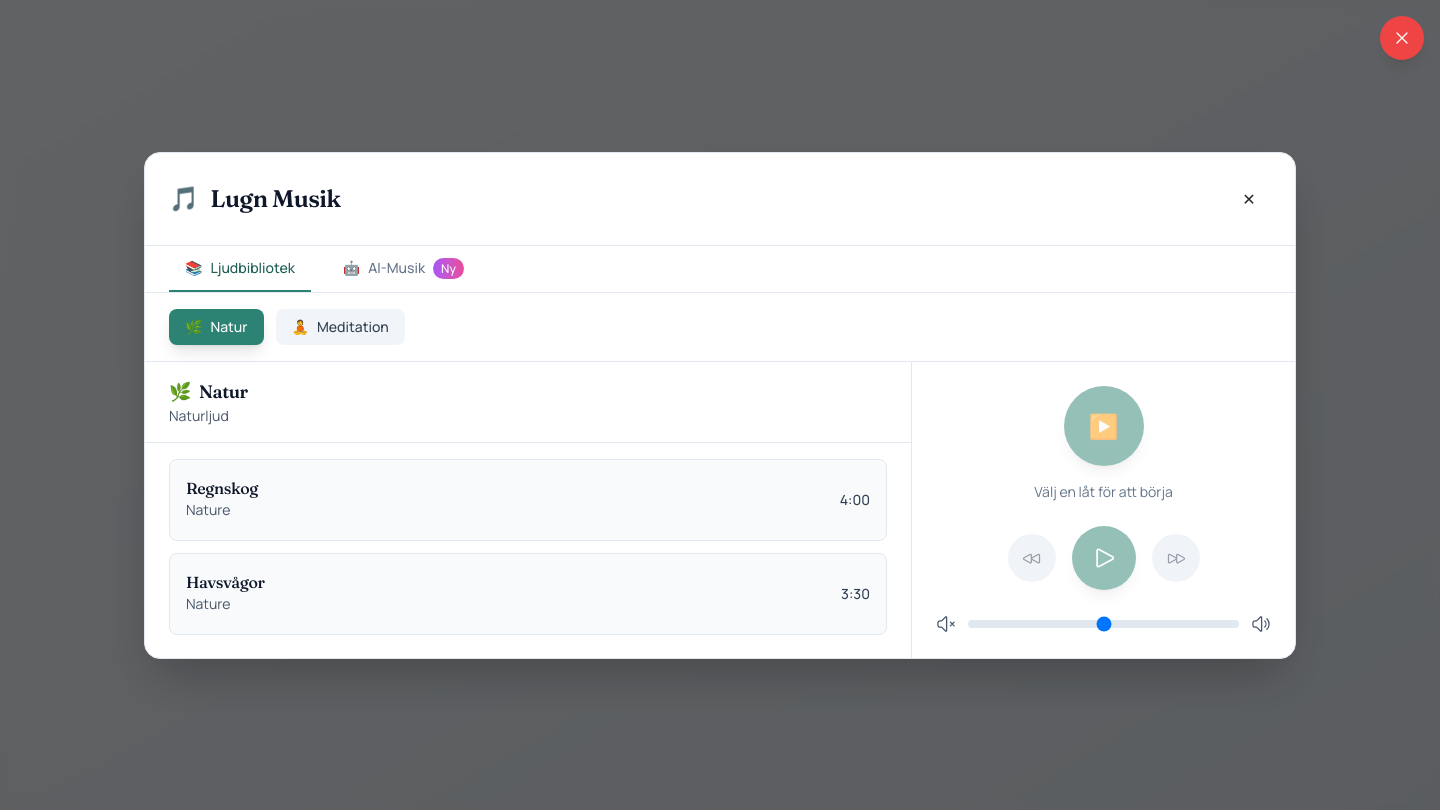
Test: BUG-06: play says no instead of doing nothing › enables them once a track is chosen
Expected: the heading "Regnskog" is shown, x1=186 y1=478 x2=258 y2=498
Click the button "Regnskog Nature 4:00": [222, 488] box x1=169 y1=458 x2=887 y2=540
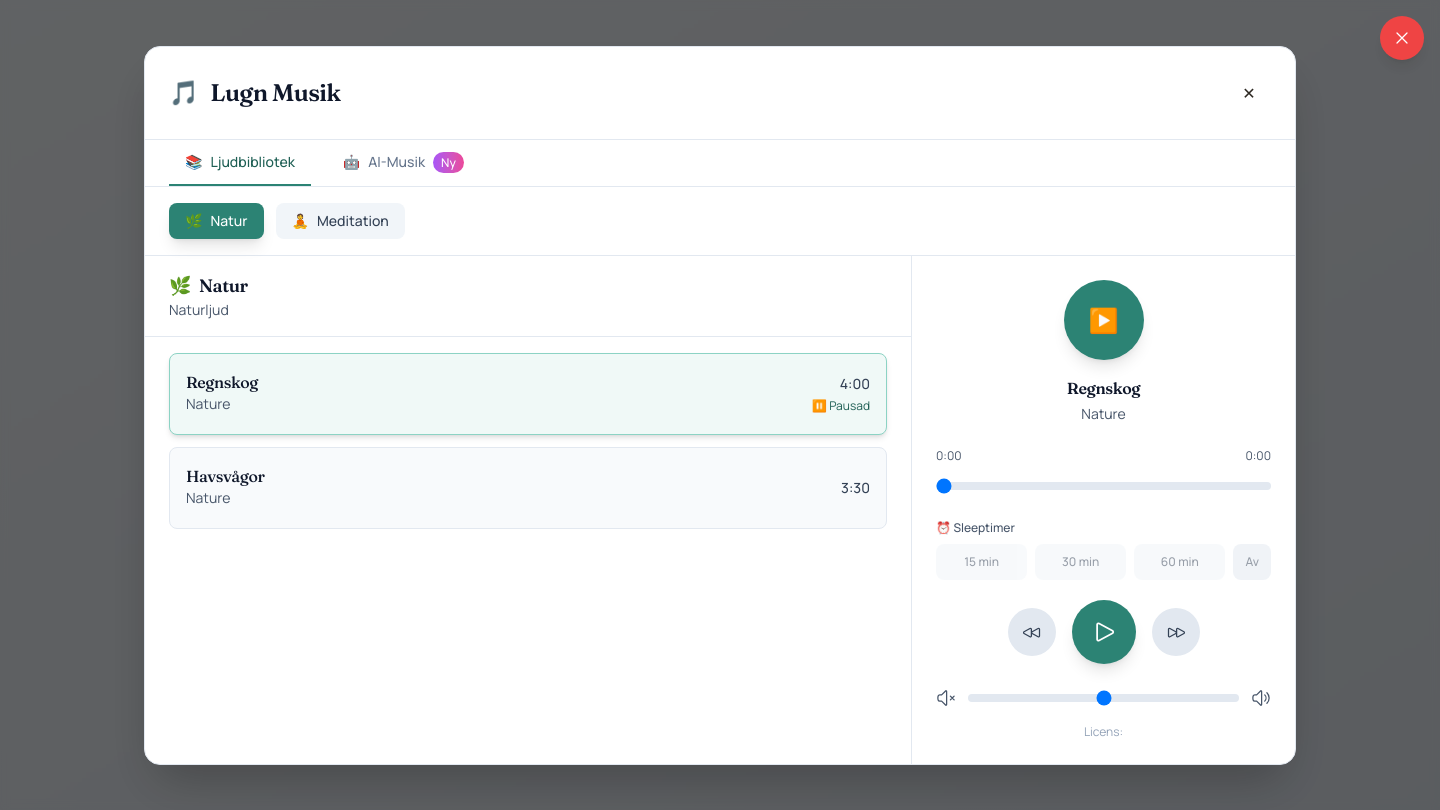
Expected: the button named "Spela" is enabled, x1=1064 y1=280 x2=1144 y2=360
